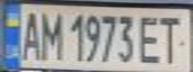1: (63, 9, 84, 62)
3: (115, 11, 139, 64)
7: (100, 10, 118, 63)
9: (81, 10, 103, 62)
A: (15, 7, 45, 61)
E: (136, 11, 166, 65)
M: (36, 7, 66, 61)
T: (154, 11, 190, 65)
